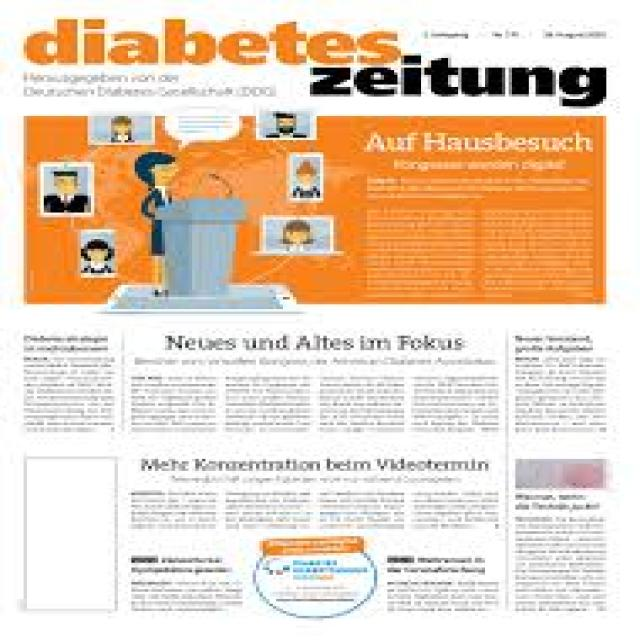paper: (24, 0, 616, 611)
